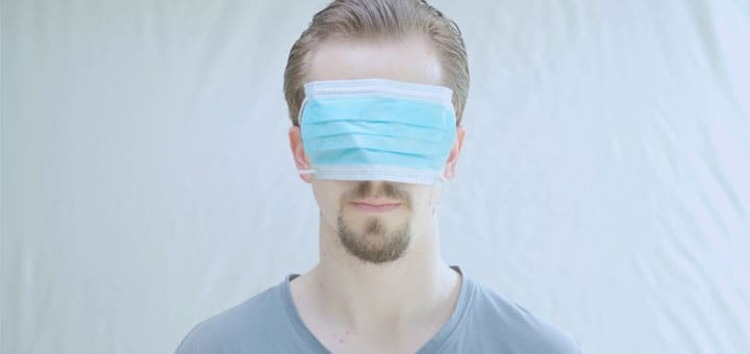with_incorrect_mask: (310, 71, 451, 257)
